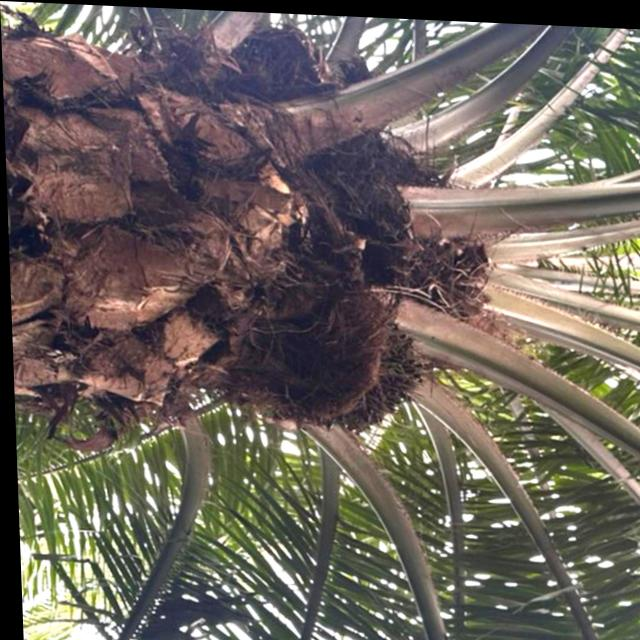unripe: (246, 306, 426, 440)
